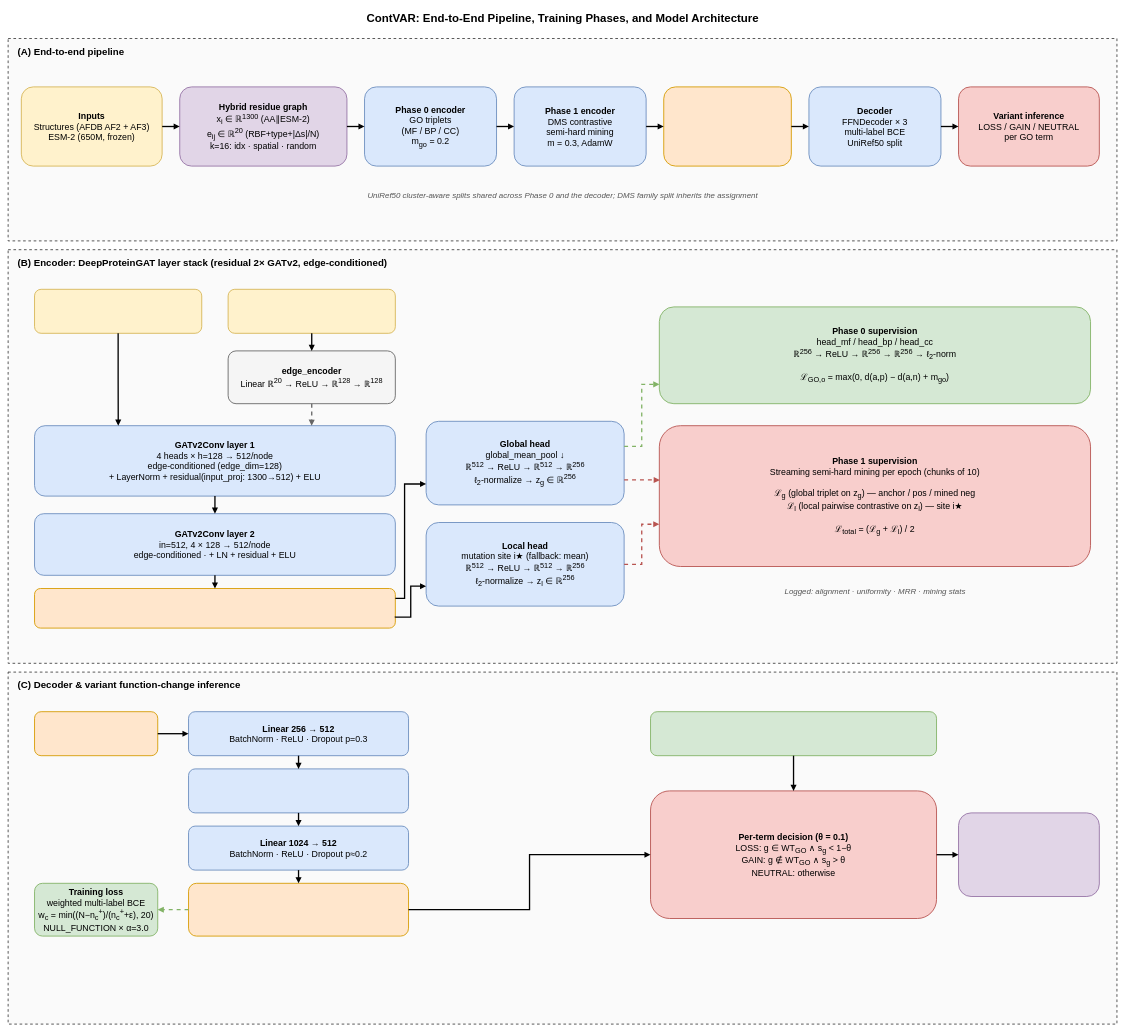
This 1125x1032 diagram has some shape labels left out. The shapes that lost their labels are listed below. From the top down, each one's centre as x and y in pixels, then its label:
(727,126): Frozen embeddings z ∈ ℝ 256 H5 export by UniProt
(118,311): Node X ∈ ℝ N×1300 AA one-hot ∥ ESM-2
(311,311): Edge E ∈ ℝ |ℰ|×20 16-bin RBF + type + |Δs|/N
(215,608): node states h i ∈ ℝ 512
(96,733): z var ∈ ℝ 256 (frozen encoder)
(793,733): WT GO labels GOA lookup (not from decoder)
(298,790): Linear 512 → 1024 BatchNorm · ReLU · Dropout
(1029,854): Evaluation Decoder: mAP · macro-F1 · MCC Variant: per-term LOSS/GAIN agreement
(298,909): Linear 512 → |V GO | (+ NULL_FUNCTION) σ(logits) → s ∈ [0,1] C
